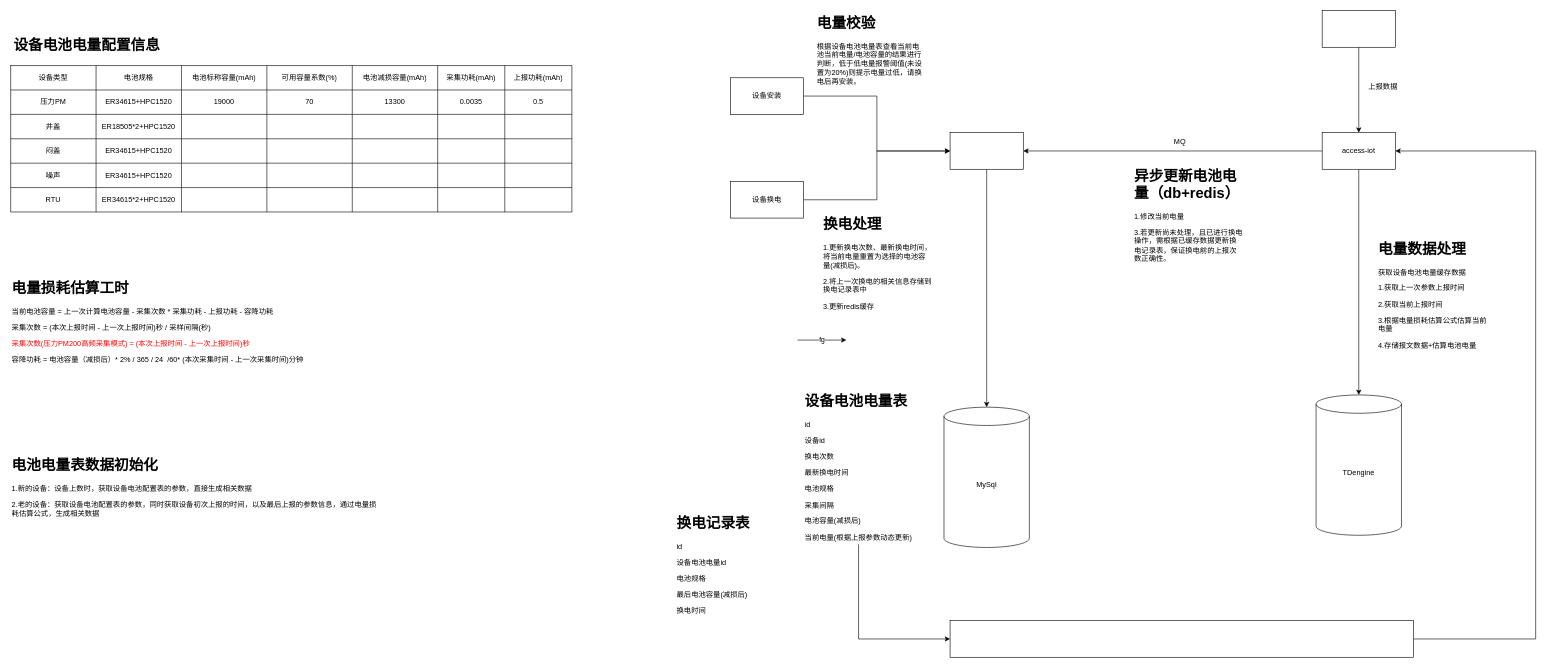
The diagram is 1551 pixels wide and 668 high, and some of its shapes have lost their labels. Here are the shapes that lost their labels. From the top down, the box of each, then its label:
(1322, 10, 1395, 47): 设备
(949, 132, 1023, 169): iot-device
(949, 620, 1414, 657): redis缓存
